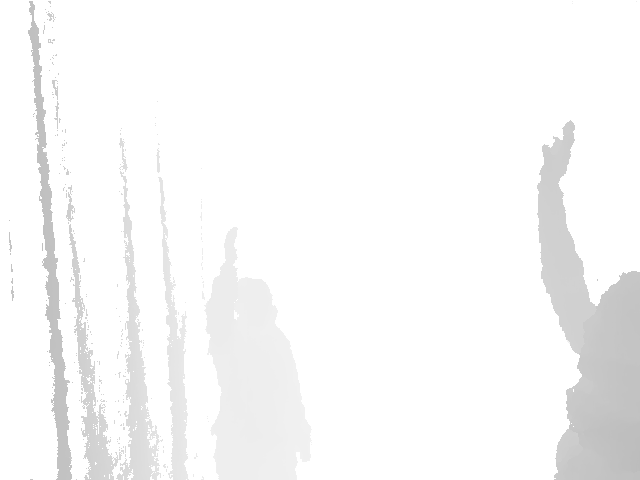hand: (538, 114, 579, 187), (220, 224, 240, 265)
head: (576, 271, 640, 392), (235, 270, 272, 330)
person: (536, 115, 640, 480), (203, 218, 308, 480)
